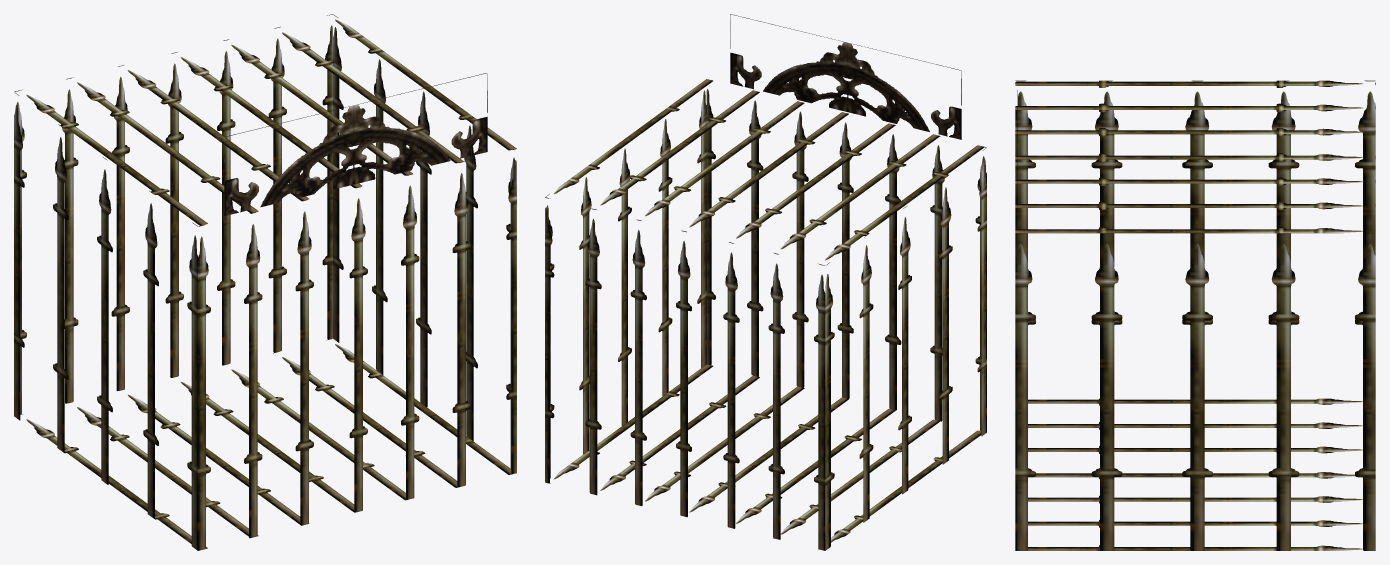
File: HouseEtc03.glb
3 renders of one model, left to right at view 1: azimuth 30°, elevation 25°; view 2: azimuth 150°, elevation 25°; view 3: azimuth 270°, elevation 25°, orthographic. The views are drawn at different scales.
Visible parts, largest first — view 1: HouseEtc03; view 2: HouseEtc03; view 3: HouseEtc03.
Boxes of the visible parts, <box> form: HouseEtc03: <box>14,14,516,550</box>; HouseEtc03: <box>545,14,986,550</box>; HouseEtc03: <box>1015,80,1375,550</box>.
Bounding box in the file's own units: 2 × 2.44 × 2.
Materials: 2 (2 with a texture image).
